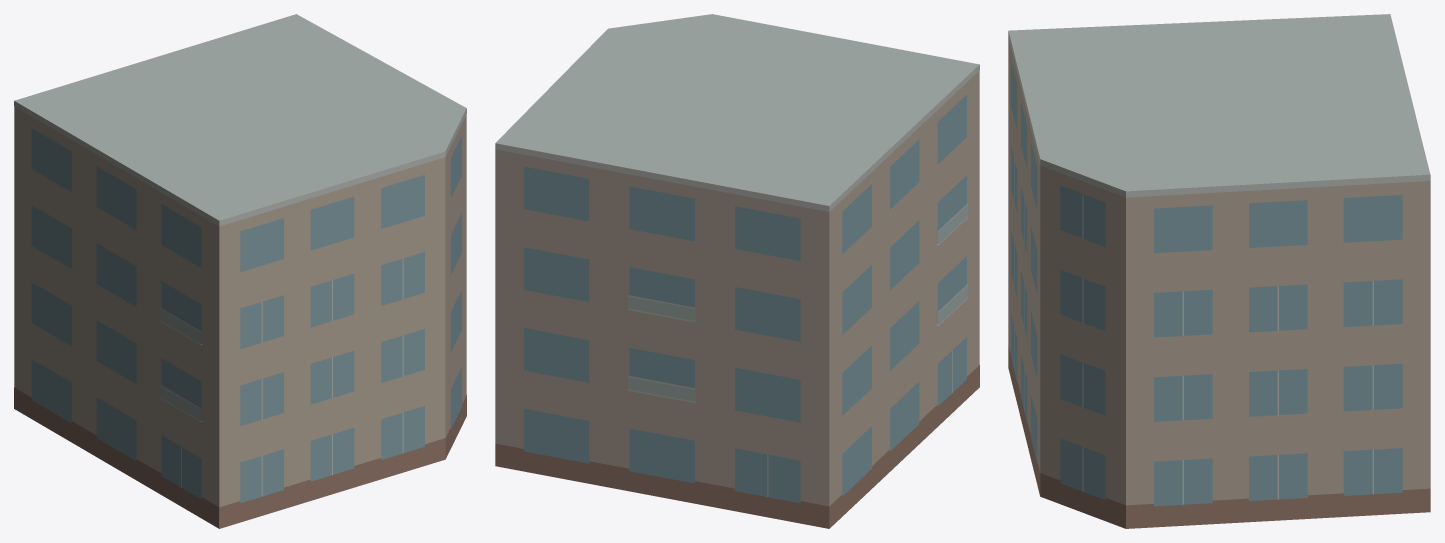
The model's file is survey-upis-32629320.glb.
3 renders of one model, left to right at view 1: azimuth 30°, elevation 25°; view 2: azimuth 150°, elevation 25°; view 3: azimuth 270°, elevation 25°, orthographic. The views are drawn at different scales.
Visible parts, largest first — view 1: survey-upis-32629320.tmp; view 2: survey-upis-32629320.tmp; view 3: survey-upis-32629320.tmp.
Part boxes in pixels (box(x1,y1,x2,y2)): survey-upis-32629320.tmp: box(14, 14, 466, 528); survey-upis-32629320.tmp: box(495, 14, 979, 528); survey-upis-32629320.tmp: box(1008, 14, 1430, 528).
Size of the model in its own units: 14.89 by 13.2 by 14.97.
